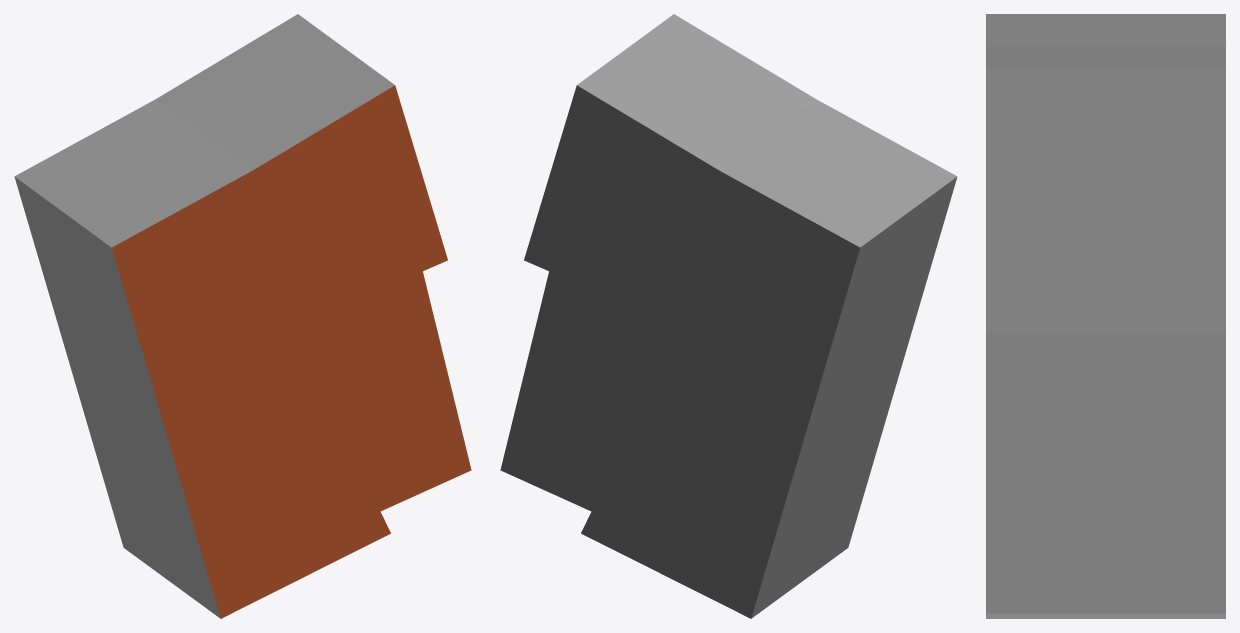
Rendered from construction_2796_assumed_A_Casa_h6m.obj.
3 views of the same model, side by side, from view 1: azimuth 30°, elevation 25°; view 2: azimuth 150°, elevation 25°; view 3: azimuth 270°, elevation 25° (orthographic). The views are drawn at different scales.
Parts seen in each view (by area): view 1: construction_2796_assumed_A_Casa; view 2: construction_2796_assumed_A_Casa; view 3: construction_2796_assumed_A_Casa.
Boxes of the visible parts, box(x1,y1,x2,y2) form: construction_2796_assumed_A_Casa: box(14, 14, 471, 618); construction_2796_assumed_A_Casa: box(500, 14, 957, 618); construction_2796_assumed_A_Casa: box(986, 14, 1225, 618).
Bounding box in the file's own units: 12.82 × 16.72 × 6.
